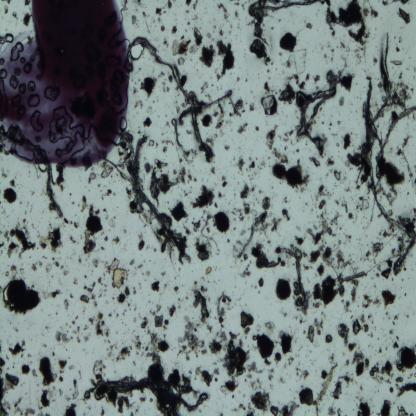Air bubble: (130, 43, 146, 61), (50, 163, 61, 186), (0, 32, 13, 47), (37, 164, 47, 173)
Background material: (246, 0, 331, 36), (377, 32, 410, 107), (312, 268, 367, 306), (298, 365, 340, 413), (140, 162, 188, 202), (233, 212, 271, 260), (332, 0, 369, 47), (270, 151, 310, 194), (220, 332, 247, 393), (80, 195, 106, 253), (2, 278, 41, 314), (106, 255, 132, 307), (0, 221, 35, 257), (176, 316, 206, 358), (145, 330, 169, 376), (0, 354, 18, 414), (308, 213, 338, 248), (36, 356, 56, 407), (250, 242, 285, 270), (251, 333, 277, 370), (320, 244, 352, 274), (114, 334, 141, 367), (36, 228, 66, 256), (215, 38, 235, 79), (324, 68, 355, 92), (55, 321, 86, 345), (192, 283, 210, 320), (190, 184, 215, 210), (370, 359, 394, 386), (210, 208, 233, 236), (250, 41, 272, 69), (170, 37, 190, 67), (194, 365, 221, 387), (89, 312, 111, 338), (216, 294, 232, 327), (246, 362, 264, 391), (190, 213, 210, 238), (251, 389, 271, 414), (396, 345, 416, 370), (276, 79, 296, 104), (270, 398, 297, 416), (306, 318, 326, 342), (332, 374, 350, 400), (13, 396, 36, 416), (290, 48, 307, 75), (140, 75, 158, 100), (3, 177, 19, 205), (102, 204, 118, 232), (278, 329, 294, 357), (352, 351, 369, 377), (278, 30, 298, 52), (208, 330, 226, 354), (200, 45, 216, 72), (351, 312, 369, 336), (246, 159, 266, 180), (314, 184, 330, 210), (275, 277, 292, 301), (229, 92, 246, 116), (195, 238, 212, 262), (260, 95, 280, 115), (238, 309, 254, 333), (7, 338, 27, 357), (395, 376, 416, 394), (335, 322, 349, 349), (265, 126, 279, 152), (380, 288, 396, 310), (297, 293, 311, 318), (81, 286, 98, 306), (216, 2, 232, 23), (189, 29, 203, 52), (30, 260, 53, 274), (281, 125, 293, 151), (365, 241, 383, 258), (56, 358, 68, 383), (5, 263, 25, 278), (236, 204, 257, 218), (93, 356, 105, 380), (345, 152, 361, 169), (154, 312, 170, 329), (377, 398, 392, 416), (70, 377, 80, 404), (397, 6, 411, 25), (290, 72, 309, 86), (349, 278, 360, 302), (105, 336, 116, 360), (232, 404, 257, 414), (355, 195, 370, 211), (54, 260, 69, 276), (160, 75, 173, 93), (354, 47, 366, 66), (238, 262, 252, 278), (356, 401, 372, 415), (136, 229, 146, 251), (238, 183, 250, 201), (309, 152, 322, 168), (160, 138, 173, 154), (397, 404, 415, 415), (270, 215, 281, 233), (291, 311, 306, 324), (64, 218, 80, 230), (141, 112, 152, 129), (46, 288, 60, 301), (360, 294, 373, 308), (22, 11, 32, 29), (342, 132, 352, 150), (20, 362, 31, 378), (31, 407, 50, 416), (343, 202, 353, 219), (131, 257, 144, 270), (309, 249, 322, 262), (266, 370, 274, 391), (369, 5, 381, 19), (63, 402, 77, 414), (102, 164, 113, 179), (353, 169, 361, 189), (168, 302, 178, 318), (140, 314, 150, 330), (151, 278, 161, 294), (296, 366, 309, 378), (264, 319, 277, 331), (332, 169, 344, 182), (325, 351, 337, 364), (389, 57, 403, 68), (401, 135, 411, 150), (219, 173, 228, 189), (199, 80, 210, 93), (293, 234, 306, 245), (282, 208, 292, 222), (88, 170, 98, 184), (68, 230, 78, 244), (339, 53, 348, 68), (261, 196, 270, 211), (155, 6, 164, 21), (325, 155, 335, 168), (248, 83, 256, 99), (343, 300, 351, 316), (140, 8, 148, 24), (179, 293, 188, 307), (237, 159, 246, 173), (205, 263, 213, 278), (324, 333, 334, 345), (338, 93, 346, 108), (238, 123, 248, 135), (316, 264, 325, 277), (111, 236, 121, 247), (312, 73, 322, 84), (276, 374, 285, 386), (63, 297, 70, 312), (278, 304, 286, 317), (343, 232, 353, 242), (90, 258, 100, 268), (348, 341, 357, 352), (264, 80, 272, 92), (344, 181, 352, 193), (30, 366, 38, 378), (188, 172, 197, 182), (256, 278, 265, 288), (158, 23, 167, 33), (130, 84, 139, 94), (367, 313, 375, 324), (219, 25, 226, 37), (304, 21, 313, 30), (282, 60, 291, 69), (71, 276, 79, 286), (280, 194, 288, 204), (170, 24, 178, 34), (96, 276, 104, 286), (166, 0, 173, 11), (223, 144, 232, 152), (247, 102, 256, 110), (135, 101, 144, 109), (372, 55, 378, 67), (251, 182, 257, 194), (398, 0, 410, 6), (3, 4, 10, 14), (235, 20, 242, 30), (398, 70, 405, 80), (132, 303, 138, 314), (144, 268, 152, 276), (154, 303, 162, 311), (40, 341, 48, 349), (373, 298, 381, 306), (185, 0, 194, 7), (131, 16, 138, 25), (190, 12, 197, 21), (105, 189, 112, 198), (392, 339, 398, 349), (132, 284, 138, 294), (174, 284, 180, 294), (340, 40, 346, 50), (138, 395, 146, 402), (69, 292, 76, 300), (287, 356, 294, 364), (392, 315, 397, 326), (212, 131, 218, 140), (381, 1, 390, 7), (386, 311, 392, 320), (162, 40, 167, 50), (77, 369, 82, 379), (218, 128, 223, 138), (212, 200, 218, 208), (104, 235, 110, 243), (69, 364, 75, 372), (162, 281, 167, 290), (100, 407, 105, 416), (211, 166, 215, 177), (329, 120, 333, 131), (217, 189, 221, 200), (377, 347, 383, 354), (304, 199, 310, 206), (228, 394, 235, 400), (394, 334, 400, 341), (254, 324, 261, 330), (396, 45, 401, 53), (346, 44, 351, 52), (165, 119, 170, 127), (329, 55, 334, 63), (193, 0, 197, 10), (359, 383, 364, 391), (233, 12, 241, 17), (255, 124, 259, 133), (161, 270, 167, 276), (344, 359, 350, 365), (188, 370, 193, 377), (70, 200, 75, 207), (78, 257, 83, 264), (335, 198, 340, 205), (242, 2, 246, 10), (405, 311, 409, 319), (338, 238, 342, 246), (369, 332, 375, 337), (128, 411, 134, 416), (389, 387, 394, 393), (234, 0, 239, 6), (228, 29, 233, 35), (131, 318, 137, 323), (279, 51, 284, 57), (123, 228, 127, 235), (398, 36, 402, 43), (388, 328, 392, 335), (186, 20, 190, 26), (323, 52, 327, 58), (348, 378, 354, 382), (245, 74, 248, 82), (330, 133, 336, 137), (406, 190, 410, 196), (82, 275, 88, 279), (268, 75, 272, 80), (322, 121, 326, 126), (108, 312, 112, 317), (236, 77, 240, 82), (332, 48, 336, 53), (220, 412, 225, 416), (52, 351, 55, 357), (303, 329, 306, 335), (258, 192, 264, 195), (342, 351, 345, 357), (113, 191, 116, 196), (374, 27, 377, 31), (404, 292, 406, 298), (337, 121, 341, 124), (228, 240, 231, 244), (231, 23, 233, 28), (337, 143, 339, 148), (271, 27, 274, 30), (391, 277, 394, 280), (401, 278, 404, 281), (70, 192, 72, 196), (116, 313, 118, 317), (268, 70, 271, 72)
Cellulose filter fibre: (360, 77, 416, 274), (127, 24, 211, 152), (128, 136, 190, 258), (90, 376, 212, 410), (378, 103, 416, 190), (294, 83, 336, 152), (276, 246, 307, 303), (178, 94, 229, 125), (39, 163, 64, 218)
Microfibre: (171, 204, 186, 222)
Pen: (1, 0, 129, 168)
